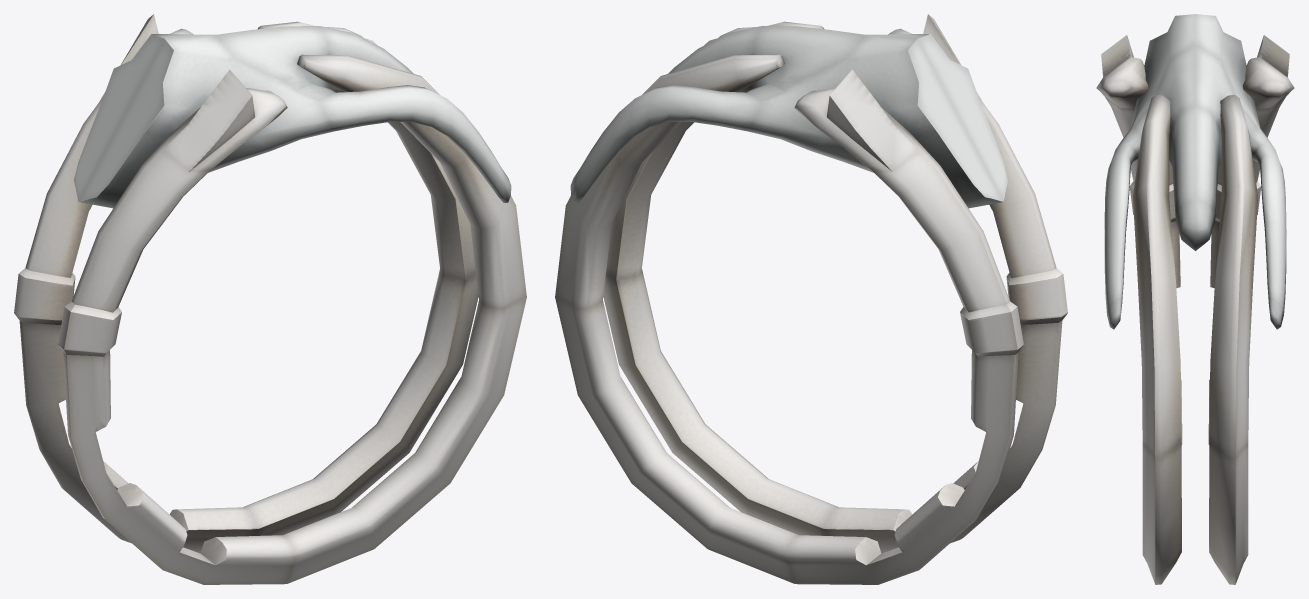
File: PlatinumRing.glb
The picture shows the model from 3 angles, left to right: view 1: azimuth 30°, elevation 25°; view 2: azimuth 150°, elevation 25°; view 3: azimuth 270°, elevation 25°; orthographic projection. The views are drawn at different scales.
Visible parts, largest first — view 1: Hoops, Gem; view 2: Hoops, Gem; view 3: Hoops, Gem.
Part boxes in pixels (x1=…): Hoops: x1=14, y1=14, x2=526, y2=584; Gem: x1=73, y1=26, x2=511, y2=208; Hoops: x1=555, y1=14, x2=1067, y2=584; Gem: x1=570, y1=26, x2=1008, y2=208; Hoops: x1=1096, y1=35, x2=1294, y2=584; Gem: x1=1104, y1=14, x2=1286, y2=329.
Bounding box in the file's own units: 219 × 249 × 89.44.
1 material, 1 textured.
